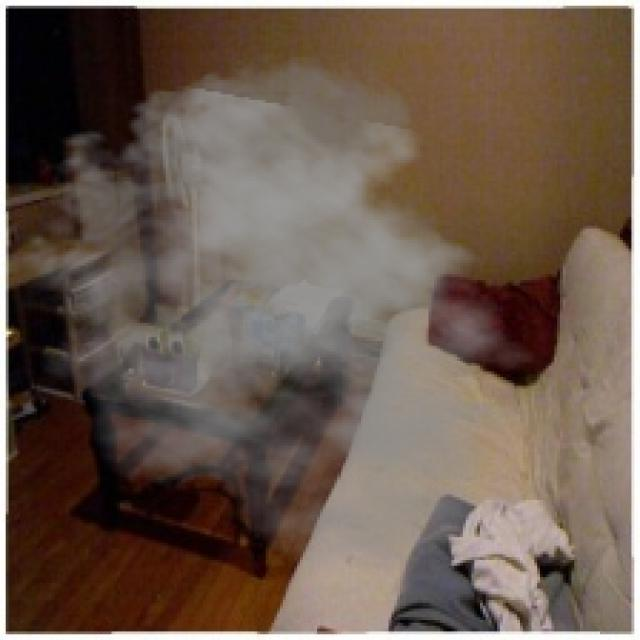Smoke: (0, 48, 557, 574)
